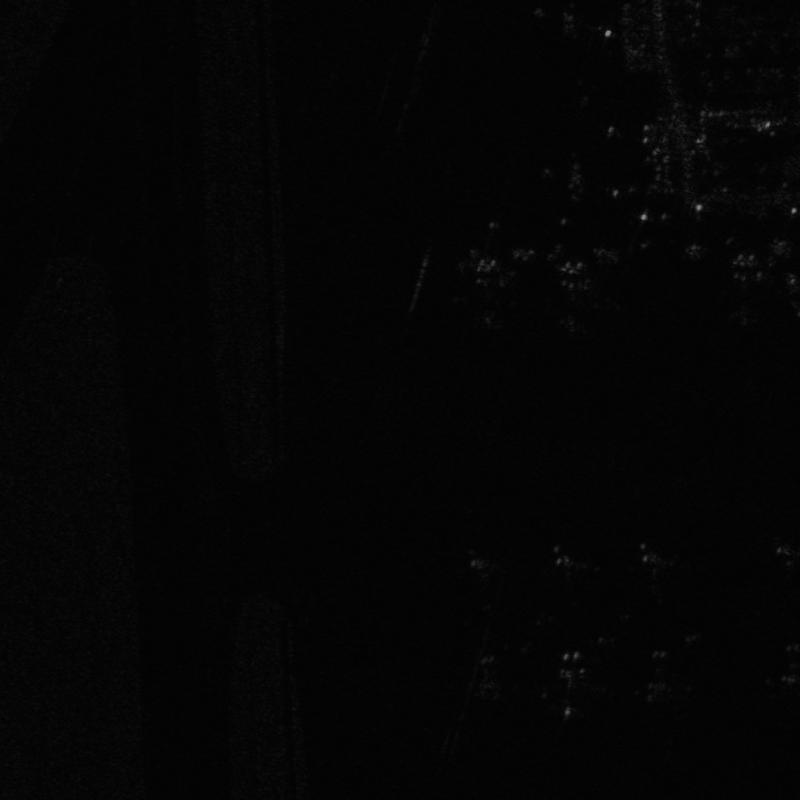A320/321: (444, 252, 523, 335)
ARJ21: (622, 643, 704, 707), (452, 652, 521, 709)
Boeing737: (528, 252, 631, 341), (709, 241, 785, 332), (530, 642, 611, 727)
other: (616, 541, 683, 607), (444, 547, 512, 611), (536, 545, 604, 597)
